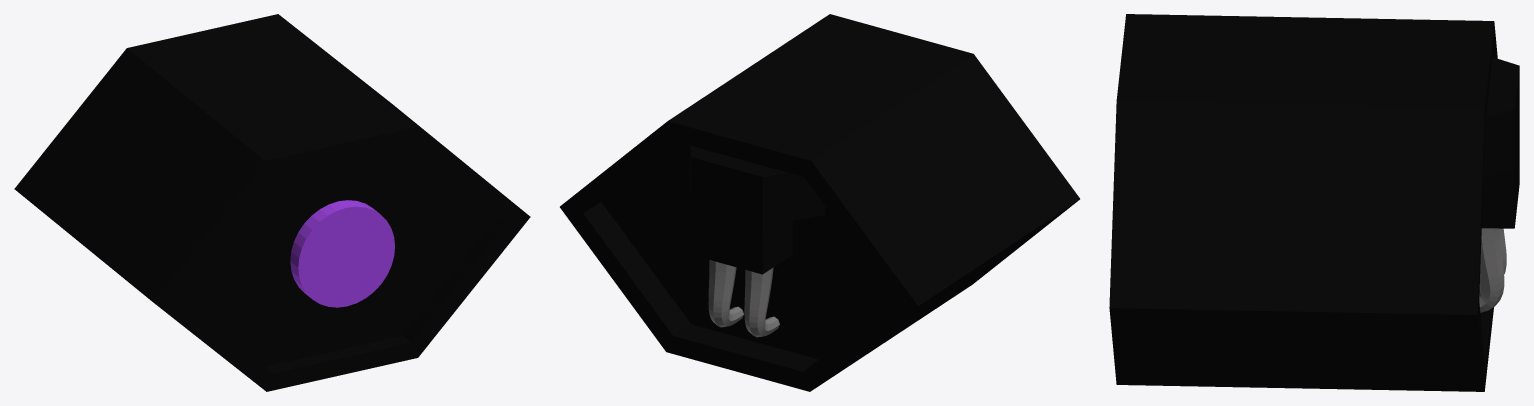
Rendered from Medusa Bot (head animation).glb.
3 renders of one model, left to right at view 1: azimuth 30°, elevation 25°; view 2: azimuth 150°, elevation 25°; view 3: azimuth 270°, elevation 25°, orthographic. The views are drawn at different scales.
Visible parts, largest first — view 1: Head; view 2: Head; view 3: Head.
Boxes of the visible parts, x1,y1,x2,y2 form: Head: (14,14,530,391); Head: (560,14,1079,391); Head: (1109,14,1519,391).
Size of the model in its own units: 0.4378 by 0.2555 by 0.334.
